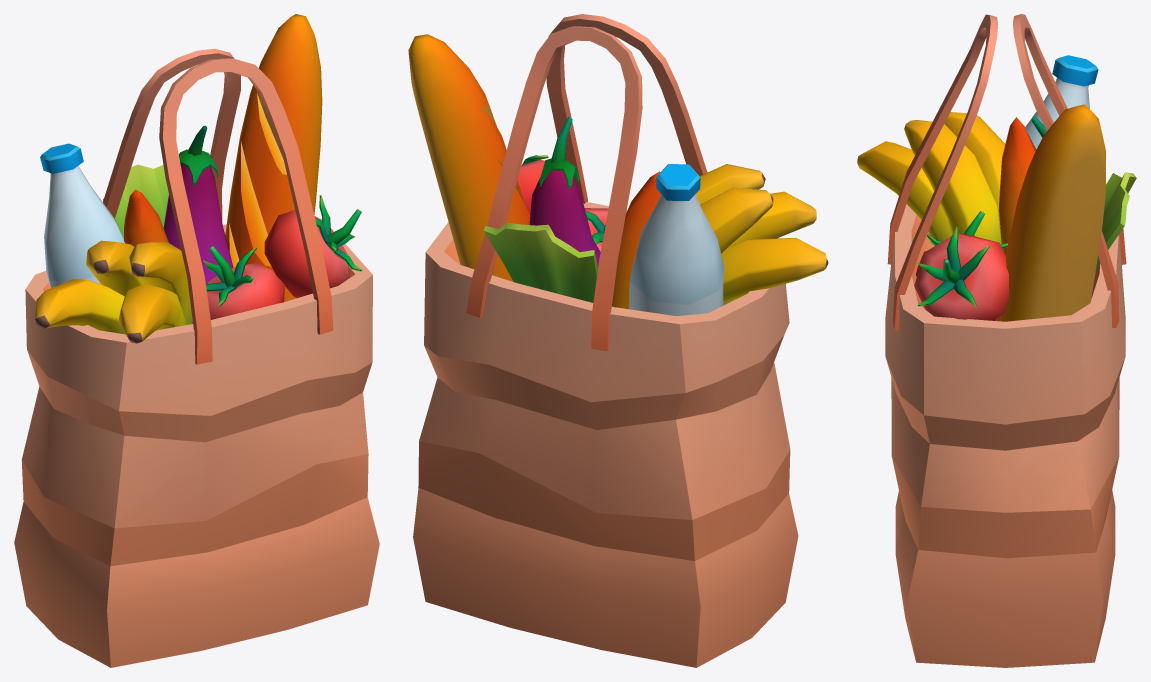
File: Groceries_01.fbx
The picture shows the model from 3 angles, left to right: view 1: azimuth 30°, elevation 25°; view 2: azimuth 150°, elevation 25°; view 3: azimuth 270°, elevation 25°; orthographic projection. The views are drawn at different scales.
Visible parts, largest first — view 1: Groceries_01; view 2: Groceries_01; view 3: Groceries_01.
Boxes of the visible parts, bbox=[...] form: Groceries_01: bbox=[14, 14, 379, 667]; Groceries_01: bbox=[408, 14, 828, 667]; Groceries_01: bbox=[857, 14, 1136, 667].
Size of the model in its own units: 41.55 by 27.9 by 64.49.
